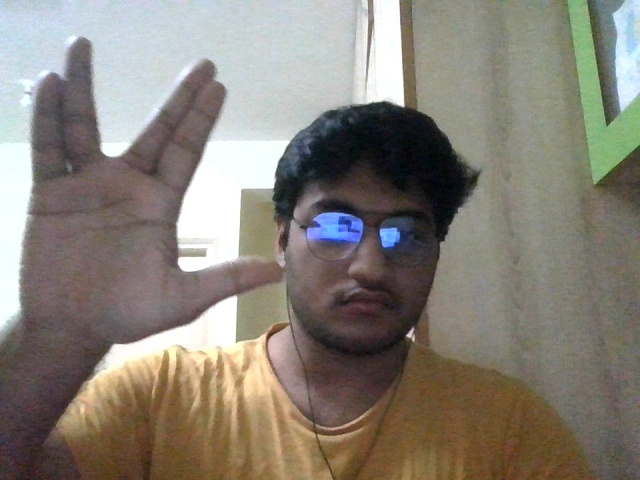livelong: (19, 36, 283, 344)
